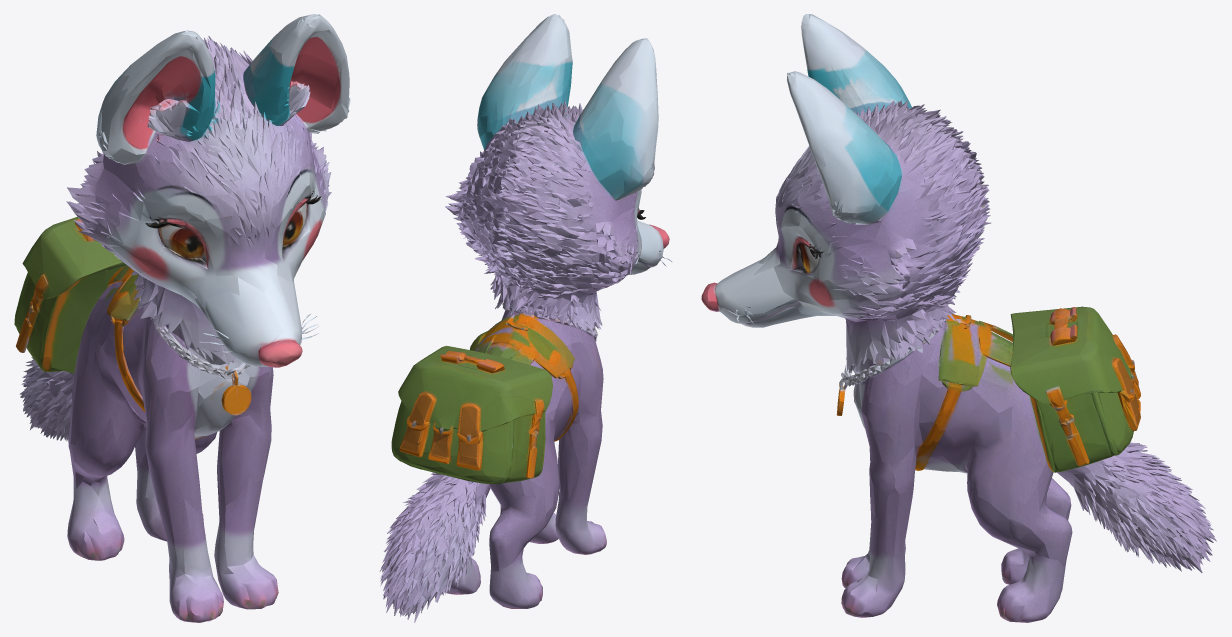
Rendered from meshy-1795568283084.glb.
3 views of the same model, side by side, from view 1: azimuth 30°, elevation 25°; view 2: azimuth 150°, elevation 25°; view 3: azimuth 270°, elevation 25° (orthographic). The views are drawn at different scales.
Size of the model in its own units: 0.7785 by 1.9 by 1.61.
Materials: 1 (1 with a texture image).
